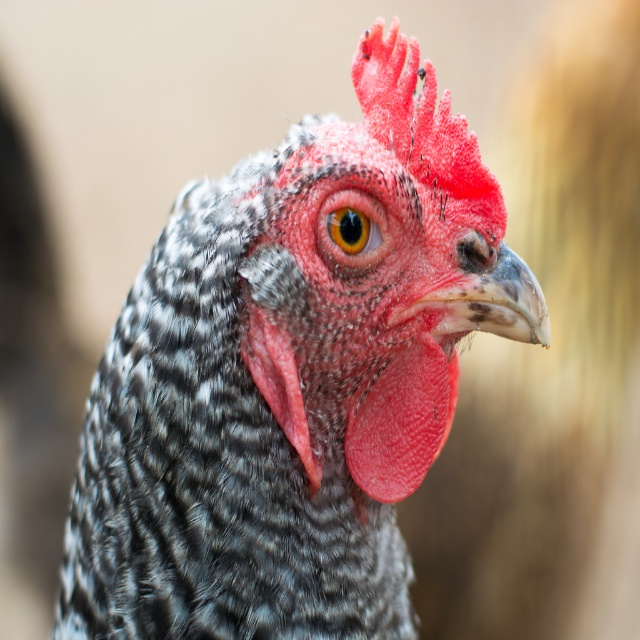Chicken: (24, 28, 554, 640)
